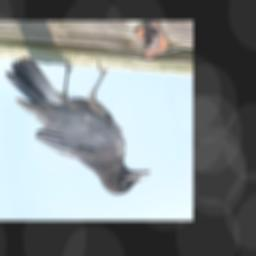Crow: (5, 57, 150, 195)
